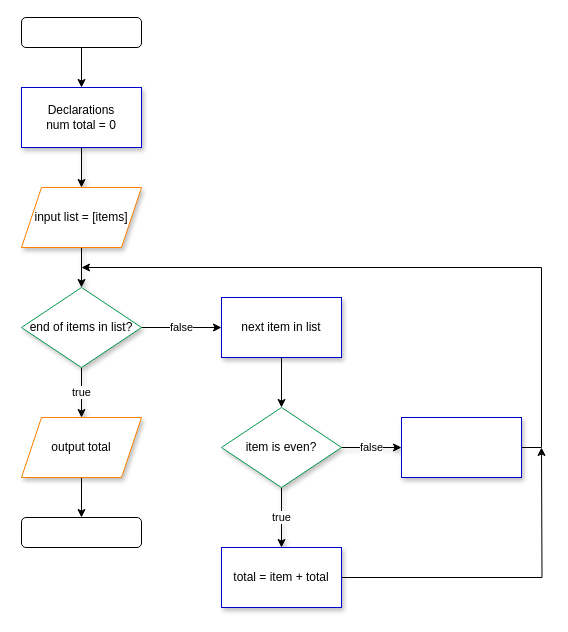
This 568x632 diagram has some shape labels left out. Here are the shapes that lost their labels. From the top down, the centre of each, then its label:
the point at 81,32: start
the point at 462,448: total = item - total
the point at 81,532: end
